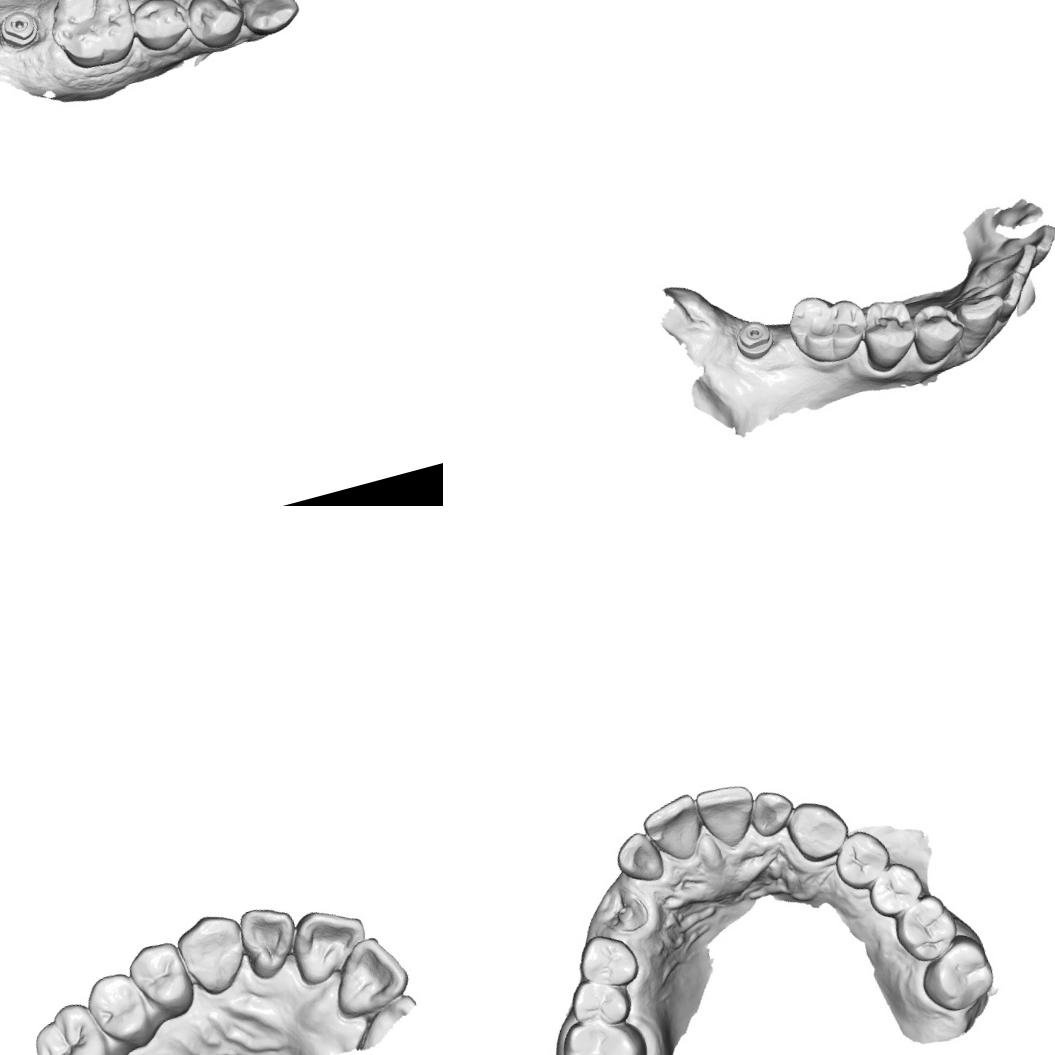canine: (170, 906, 253, 1000), (780, 791, 855, 868), (946, 288, 1015, 355), (230, 0, 304, 40)
implant: (728, 314, 778, 364)
implant_minus: (0, 3, 46, 59)
incisor: (320, 927, 416, 1023), (282, 896, 376, 988), (234, 897, 306, 982), (636, 788, 712, 866), (692, 777, 762, 852), (972, 239, 1045, 292), (970, 266, 1034, 324), (609, 825, 667, 888), (994, 218, 1055, 273), (745, 784, 800, 840)
molar: (780, 282, 876, 374), (910, 927, 1001, 1020), (39, 0, 144, 76), (23, 994, 123, 1055), (888, 888, 964, 968), (551, 1004, 657, 1055)
premolar: (80, 964, 158, 1050), (120, 936, 198, 1020), (850, 291, 926, 377), (826, 823, 897, 895), (570, 926, 643, 996), (564, 969, 638, 1037), (904, 295, 972, 367), (860, 856, 929, 921), (126, 0, 195, 57), (181, 0, 252, 54)
